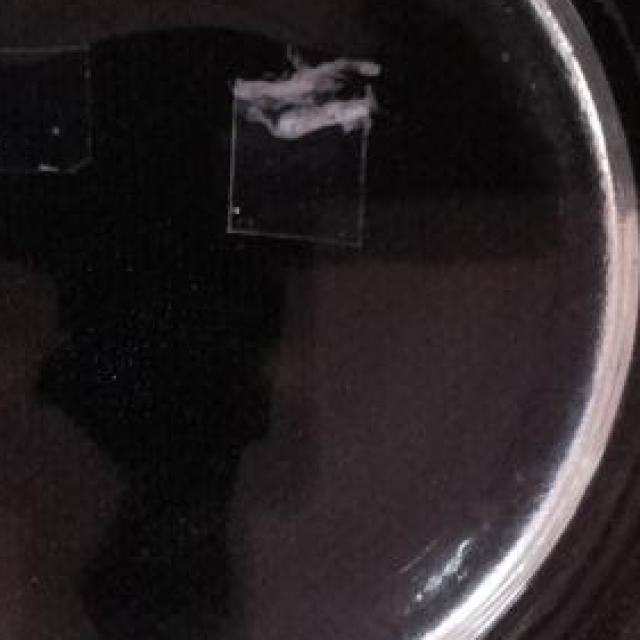Microplastic: (203, 38, 401, 281), (0, 38, 114, 181)
